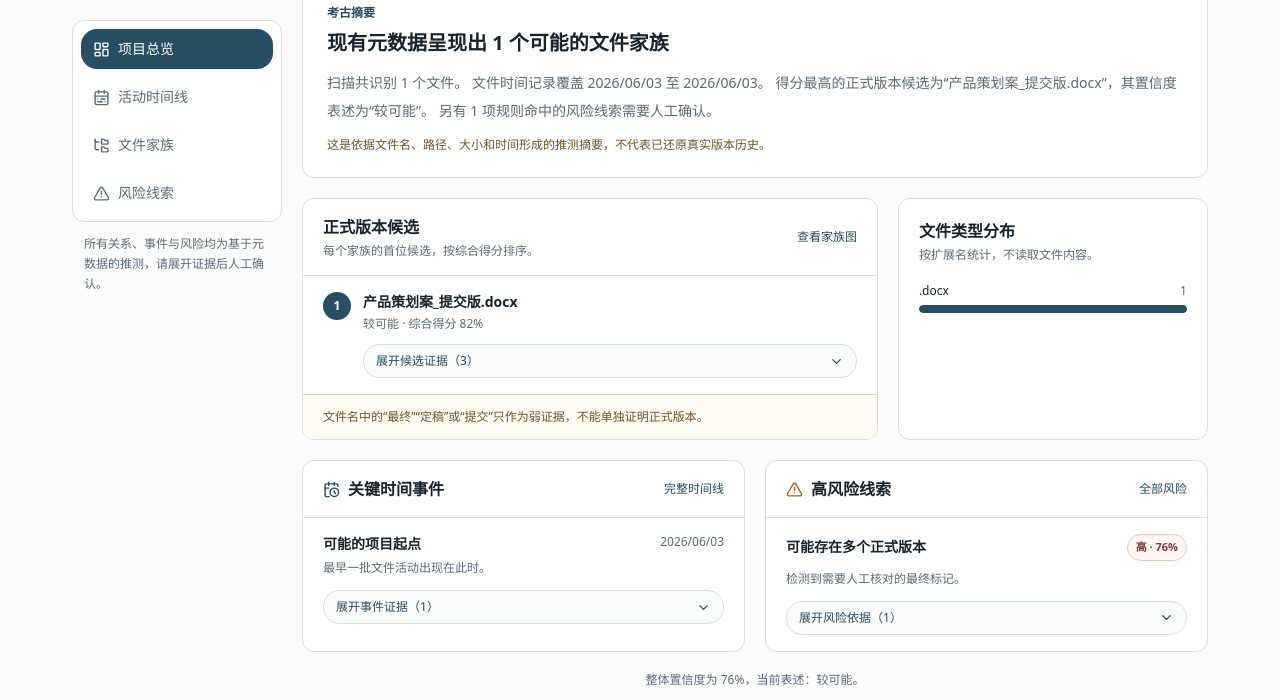
project report UI › presents the report summary and opens structured evidence
The width and height of the screenshot is (1280, 700).
(page scrolled)
expect the heading "现有元数据呈现出 1 个可能的文件家族" is shown: met, box [327, 29, 669, 56]
expect the heading "可能存在多个正式版本" is shown: met, box [786, 537, 926, 557]
Click the heading "展开候选证据（3）" at (412, 360), box [376, 352, 844, 369]
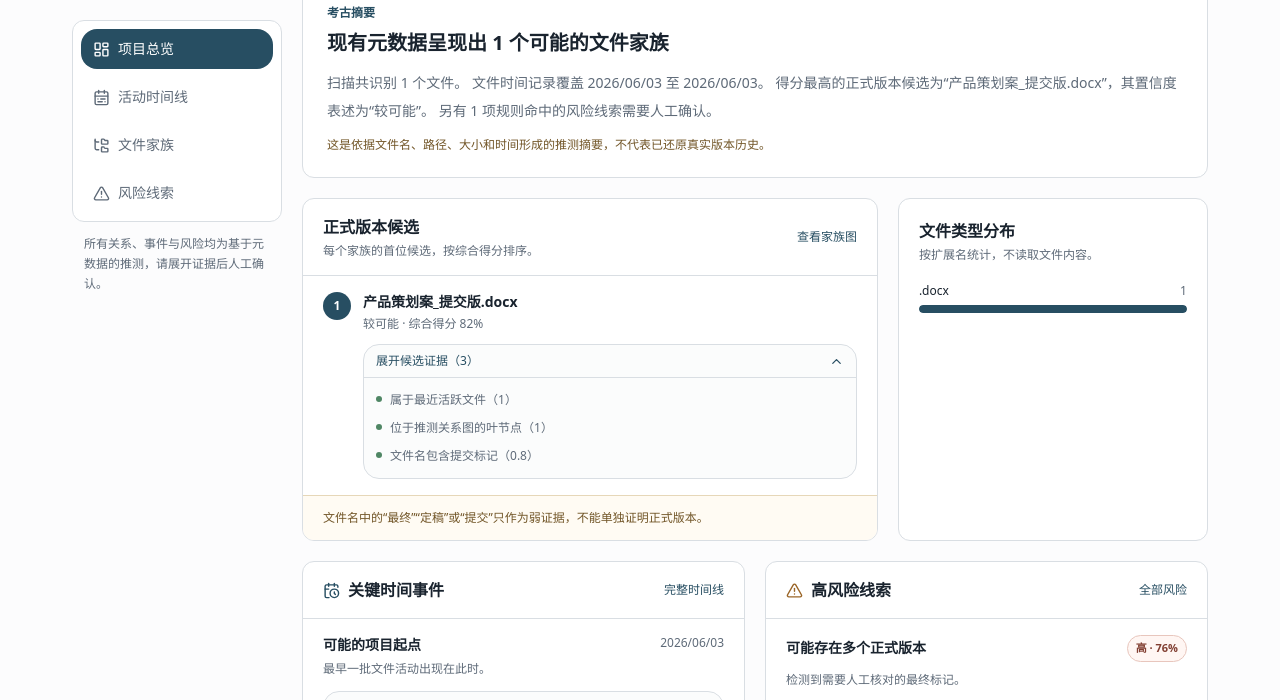
expect the text "属于最近活跃文件（1）" is shown: met, box [390, 390, 517, 410]
